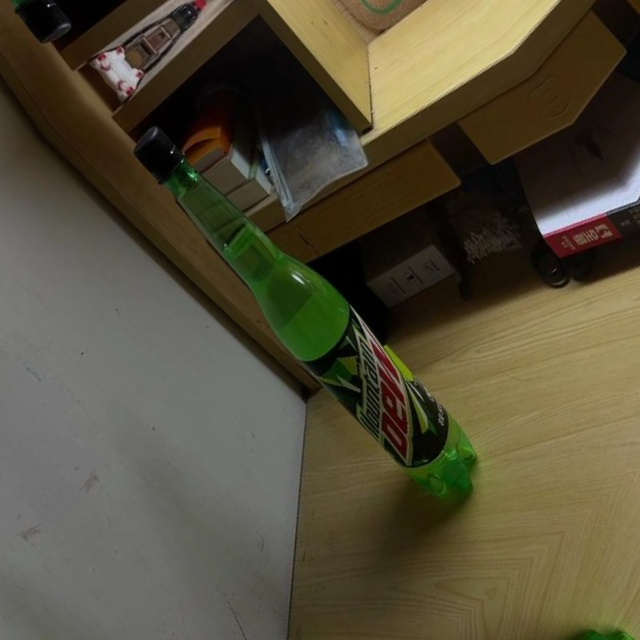Mountain-Dew: (122, 97, 502, 527)
